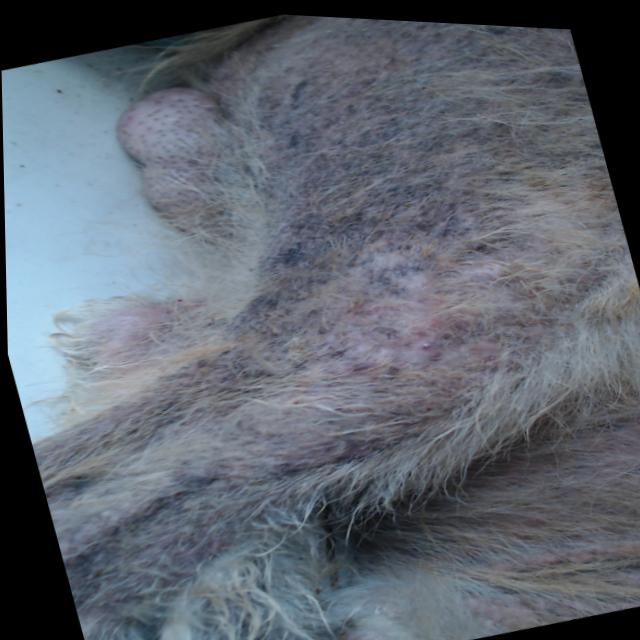demodicosis: (242, 46, 496, 257), (244, 230, 530, 404), (25, 387, 277, 580)
